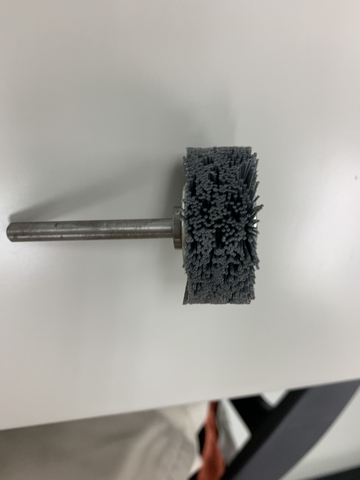Wheel Brush: (1, 134, 263, 310), (68, 119, 257, 319)
